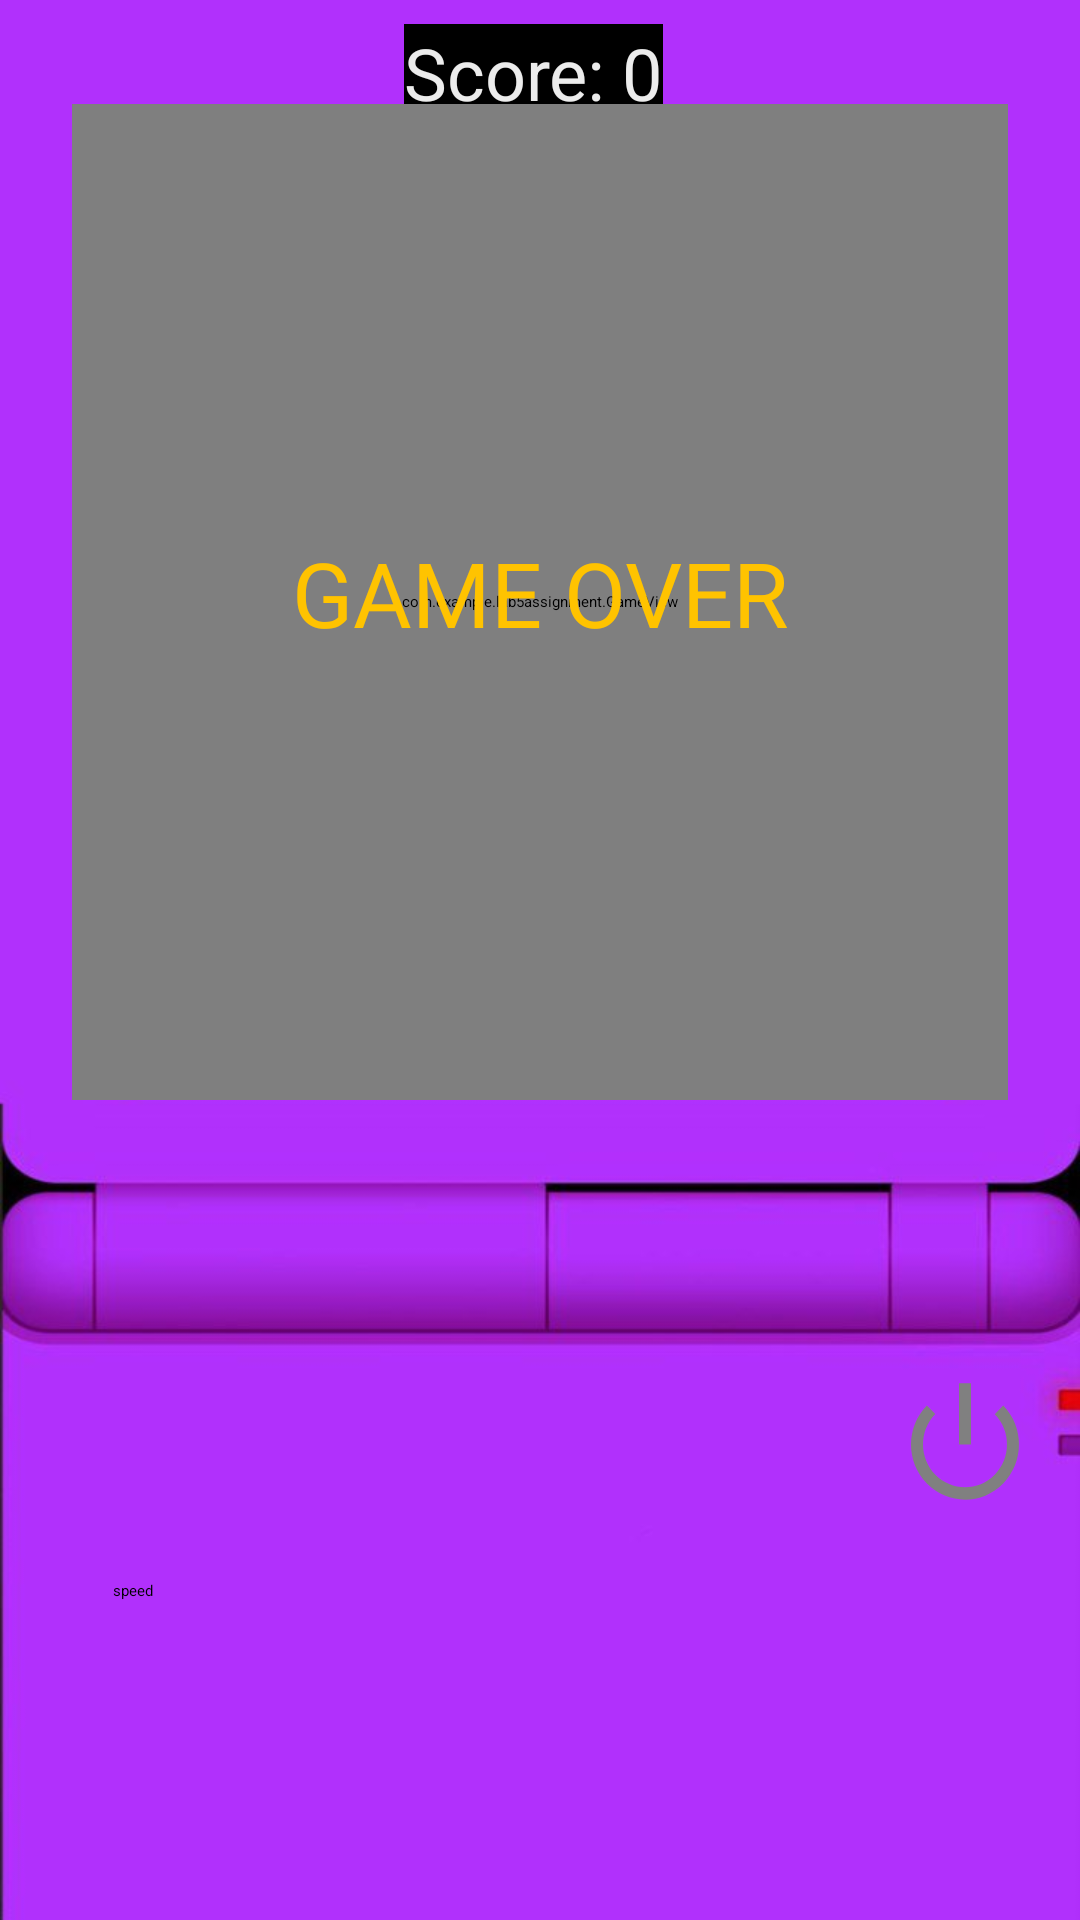

Screen size 1080px×1920px. Icon name, then its box in pixels as region(x1, y1, x2, y2):
lock power off: region(911, 1383, 1019, 1500)
